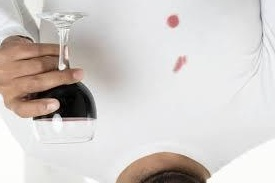wine: (172, 56, 189, 74), (164, 12, 182, 27)
